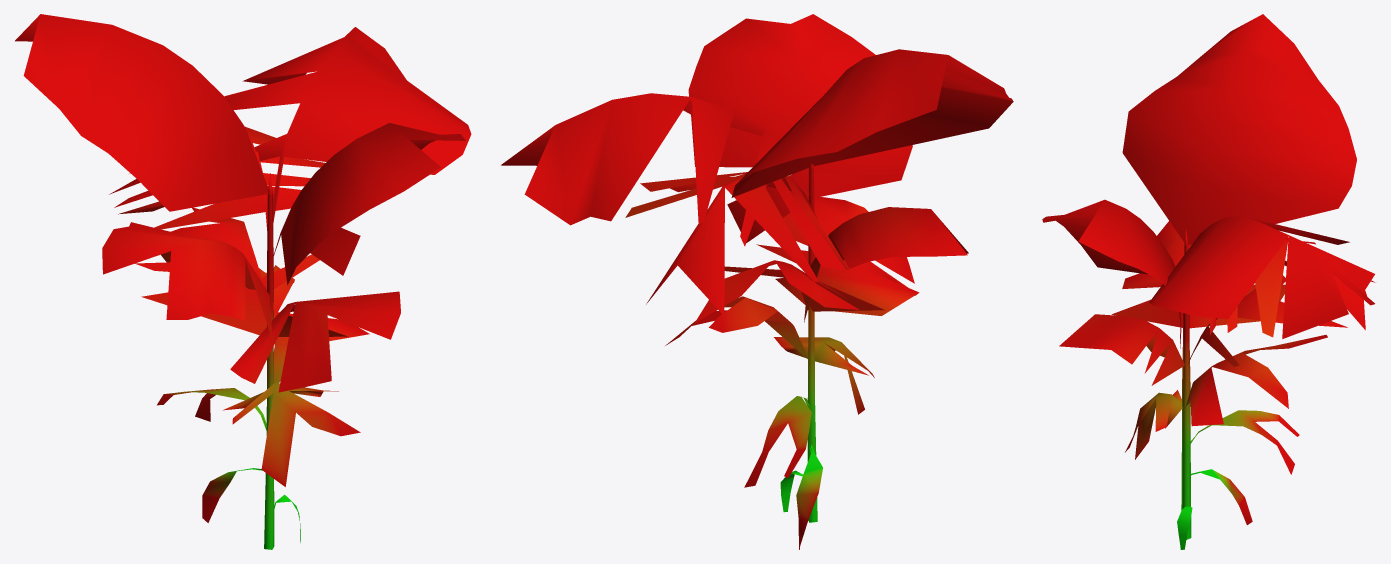
File: Cane Palm_LOD1_Var2_siBmK.fbx
3 views of the same model, side by side, from view 1: azimuth 30°, elevation 25°; view 2: azimuth 150°, elevation 25°; view 3: azimuth 270°, elevation 25° (orthographic). The views are drawn at different scales.
Parts seen in each view (by area): view 1: _4bfe_Var2_LOD1; view 2: _4bfe_Var2_LOD1; view 3: _4bfe_Var2_LOD1.
Part boxes in pixels (x1,y1,x2,y2): _4bfe_Var2_LOD1: [15, 14, 471, 549]; _4bfe_Var2_LOD1: [501, 14, 1013, 549]; _4bfe_Var2_LOD1: [1042, 14, 1375, 549].
Size of the model in its own units: 30.14 by 36.21 by 24.35.
